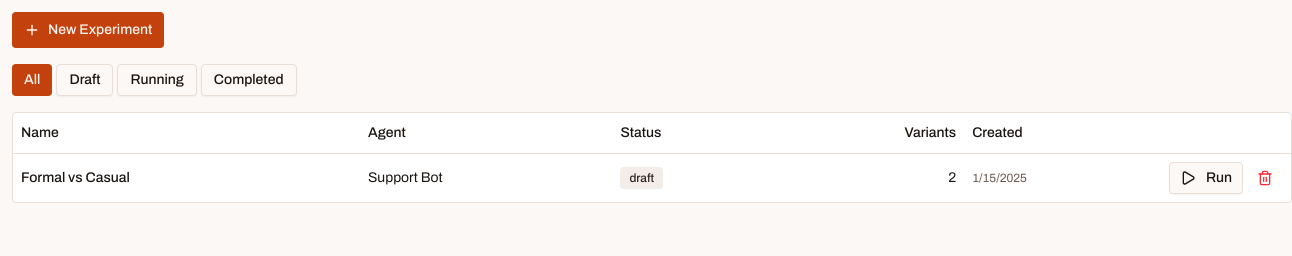
Test: ExperimentsList › Run action › shows APIClientError message when run fails with APIClientError
This screenshot has width=1292, height=256.
Click the button "Run".
click(1206, 178)  # box [1169,162,1243,194]
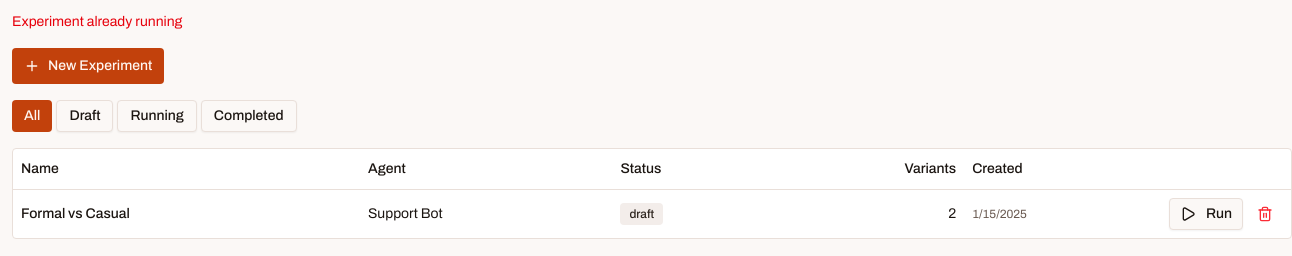
Check: the text "Experiment already running" is shown, box [12,14,182,29]
